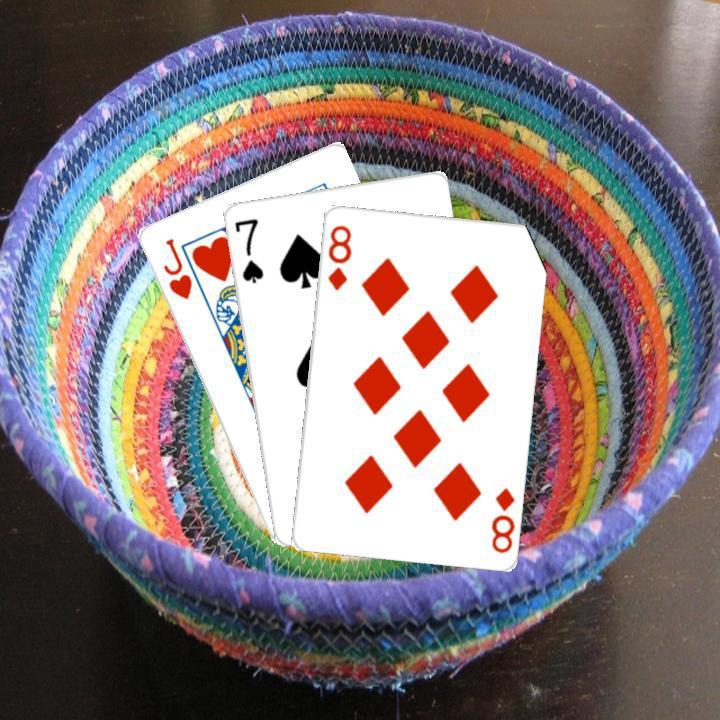7: (229, 213, 265, 285)
8: (486, 482, 516, 555), (323, 220, 353, 292)
J: (158, 233, 194, 301)
